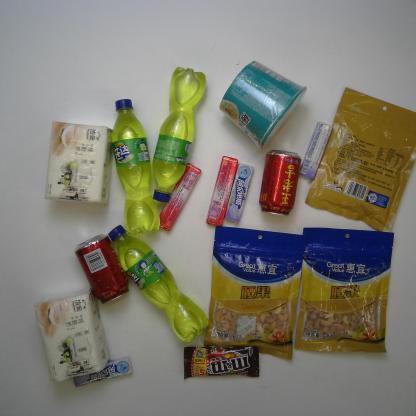Candy: (157, 161, 202, 232), (206, 157, 238, 226), (298, 122, 333, 180), (72, 354, 132, 387), (224, 164, 254, 223)
Chocolate: (184, 343, 260, 381)
Dried Fruit: (305, 87, 415, 234), (203, 226, 305, 360), (294, 227, 394, 353)
Drink: (108, 225, 209, 344), (152, 67, 206, 202), (112, 99, 160, 234), (74, 234, 128, 304), (259, 148, 301, 216)
Instant Noodles: (219, 61, 307, 151)
Tissue: (34, 288, 110, 383), (45, 121, 115, 205)
